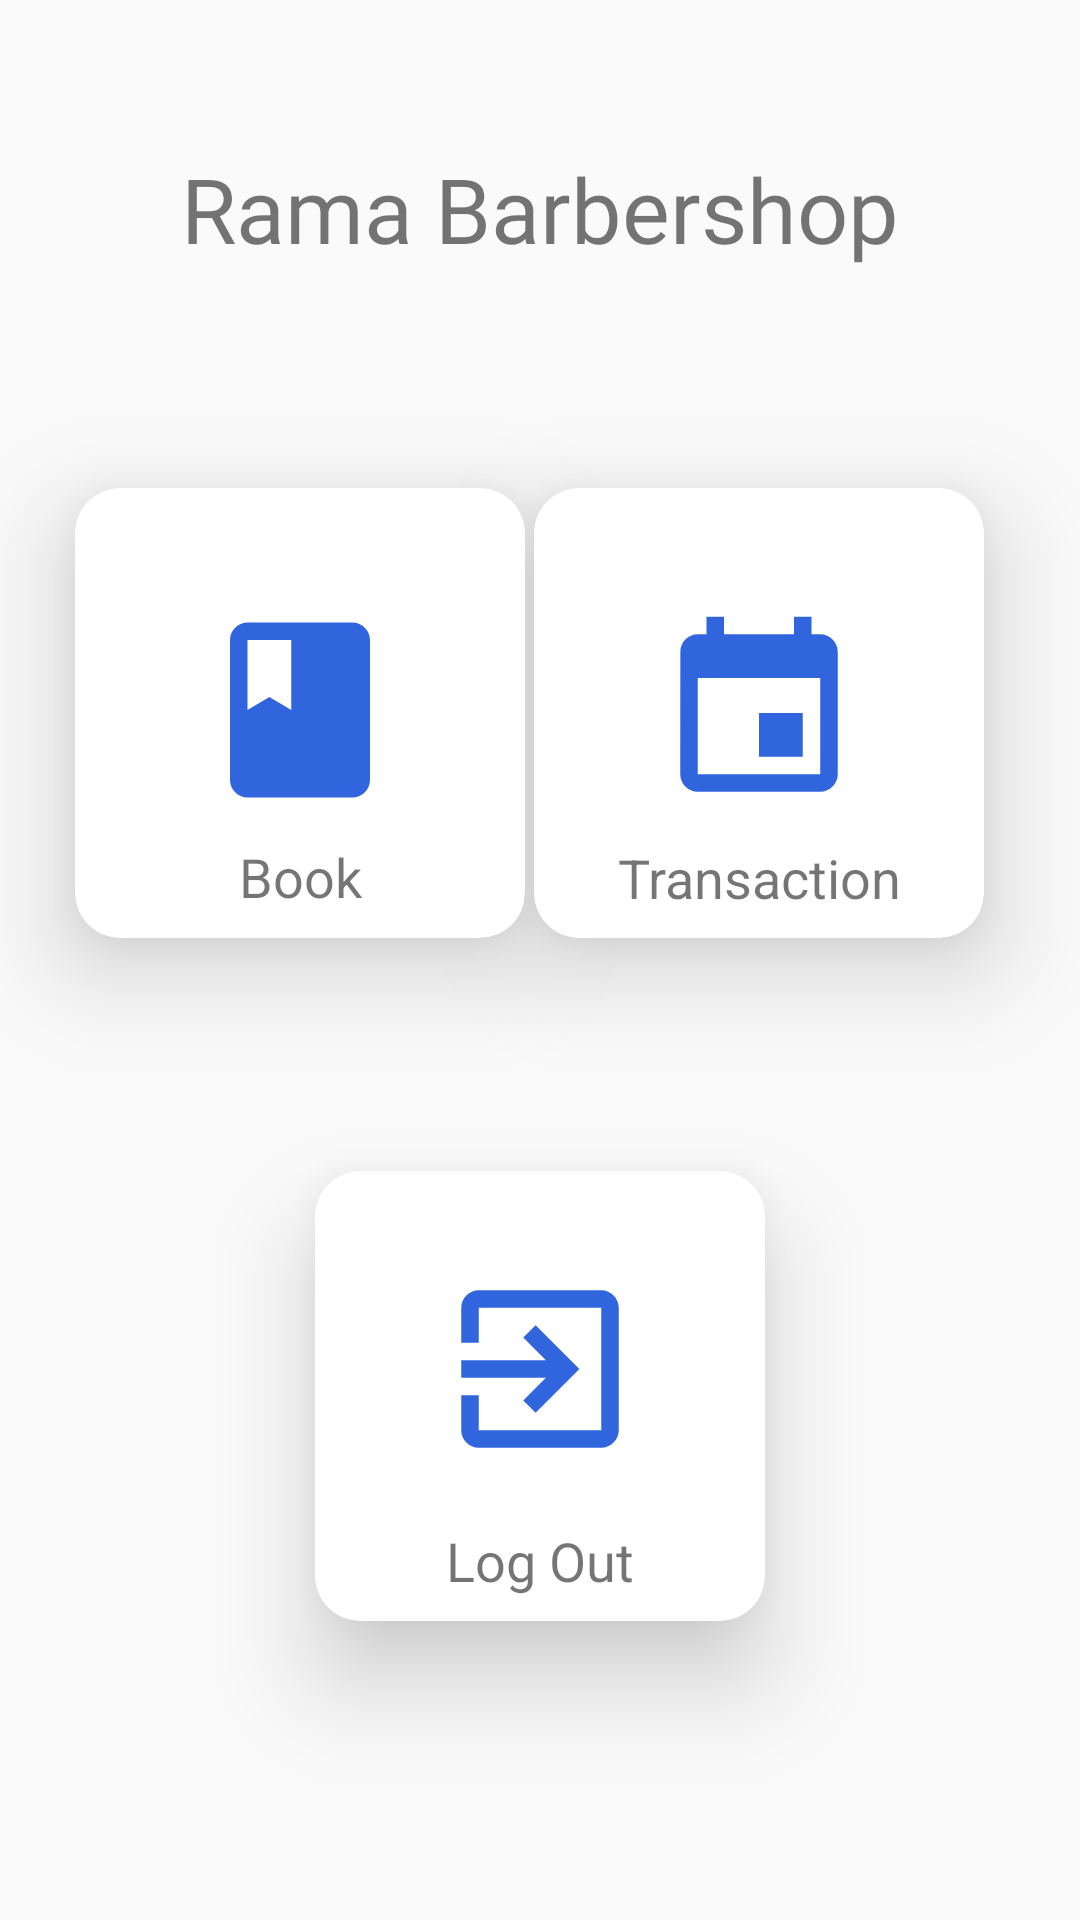

Icon click points for this 1080 x 1920 phone screenshot, format [x,y]:
event: [759,704]
exit to app: [540,1369]
